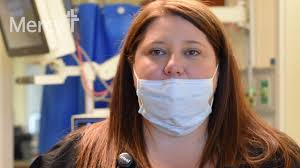mask_weared_incorrect: (131, 39, 218, 114)
